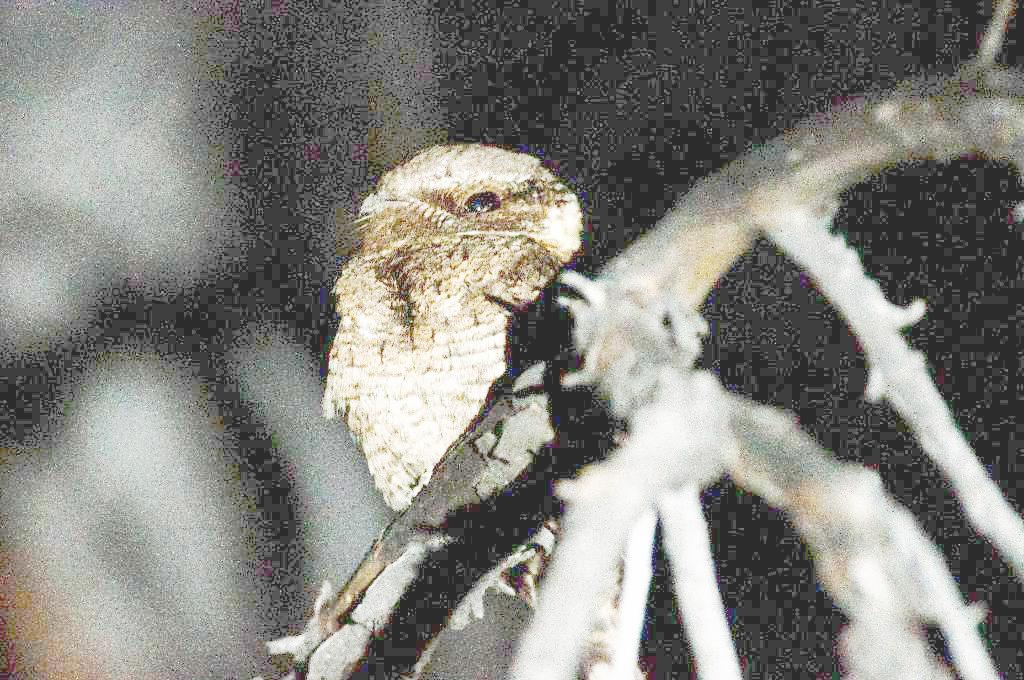Owl: (321, 149, 590, 569)
